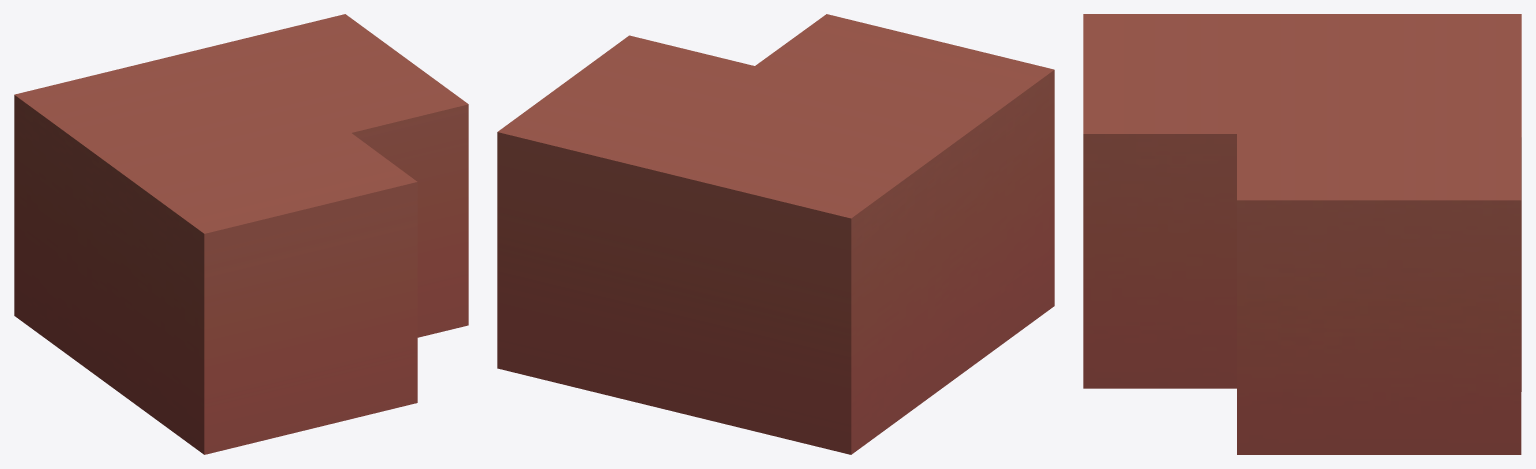
Rendered from SM_Cabinet_Upper_Corner_1_04.fbx.
3 renders of one model, left to right at view 1: azimuth 30°, elevation 25°; view 2: azimuth 150°, elevation 25°; view 3: azimuth 270°, elevation 25°, orthographic. The views are drawn at different scales.
Parts seen in each view (by area): view 1: SM_Cabinet_Upper_Corner_1_04; view 2: SM_Cabinet_Upper_Corner_1_04; view 3: SM_Cabinet_Upper_Corner_1_04.
Part boxes in pixels (box(x1,y1,x2,y2)): SM_Cabinet_Upper_Corner_1_04: box(14, 14, 468, 454); SM_Cabinet_Upper_Corner_1_04: box(497, 14, 1054, 454); SM_Cabinet_Upper_Corner_1_04: box(1083, 14, 1521, 454).
Bounding box in the file's own units: 114 × 72.67 × 113.
